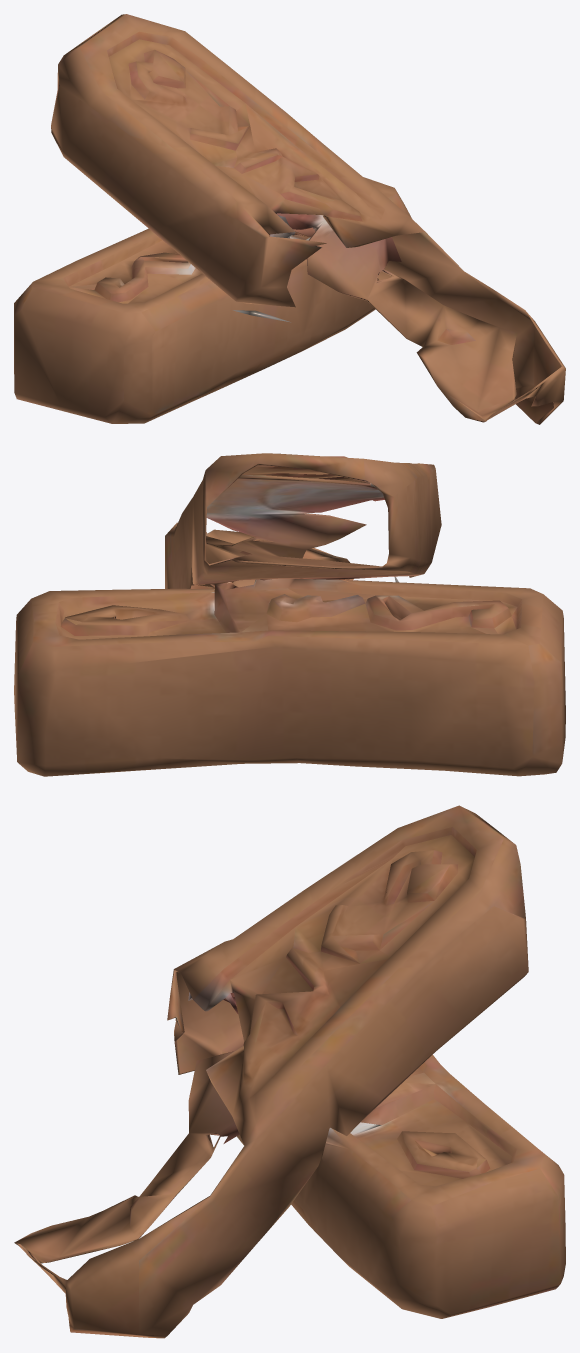
File: lg-fallen-obelisk.glb
The picture shows the model from 3 angles, top to bottom: view 1: azimuth 30°, elevation 25°; view 2: azimuth 150°, elevation 25°; view 3: azimuth 270°, elevation 25°; orthographic projection. The views are drawn at different scales.
Visible parts, largest first — view 1: geometry_0; view 2: geometry_0; view 3: geometry_0.
Boxes of the visible parts, x1,y1,x2,y2 form: geometry_0: [14, 14, 565, 424]; geometry_0: [14, 453, 565, 776]; geometry_0: [14, 805, 565, 1338].
Size of the model in its own units: 1 by 0.7195 by 0.9679.
Materials: 1 (1 with a texture image).
